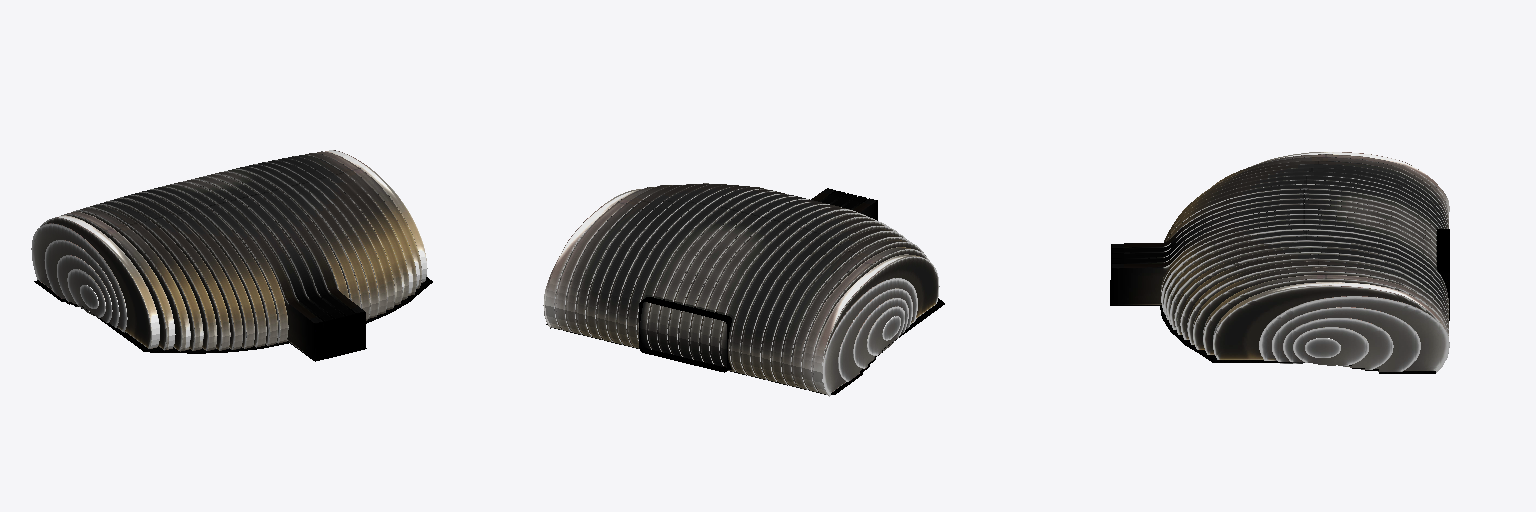
The picture shows the model from 3 angles: view 1: azimuth 30°, elevation 25°; view 2: azimuth 150°, elevation 25°; view 3: azimuth 270°, elevation 25°; orthographic projection.
Visible parts, largest first — view 1: Dome, Floor; view 2: Dome, Floor; view 3: Dome, Floor.
Boxes of the visible parts, <box> form: Dome: <box>31,150,427,361</box>; Floor: <box>34,277,432,360</box>; Dome: <box>543,183,939,396</box>; Floor: <box>546,297,944,394</box>; Dome: <box>1111,152,1449,372</box>; Floor: <box>1110,229,1449,373</box>.
Bounding box in the file's own units: 26.63 × 8.64 × 26.97.
2 materials, 2 textured.